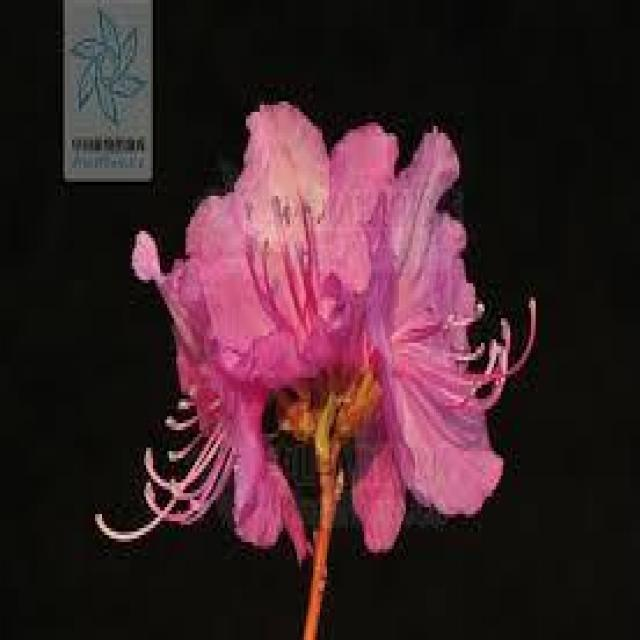organic waste: (124, 94, 546, 566)
